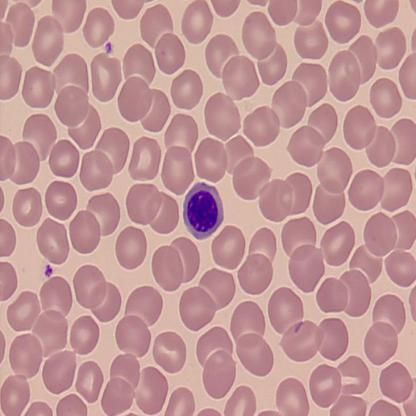NRC: (181, 180, 225, 243)
